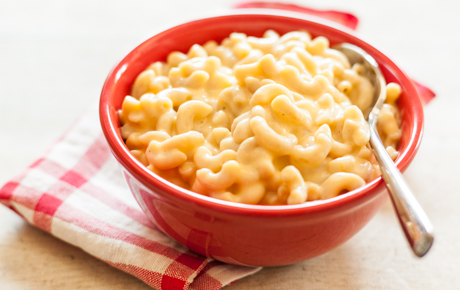macncheese: (116, 28, 403, 210)
